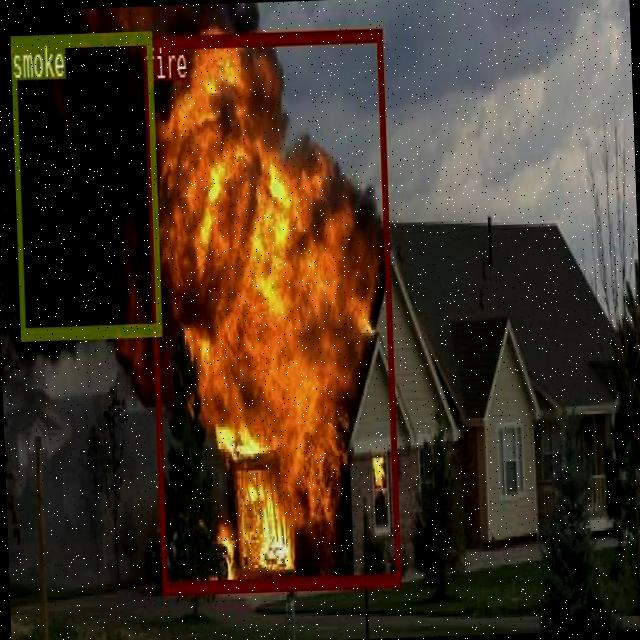fire: (142, 28, 400, 590)
smoke: (9, 30, 160, 338)
